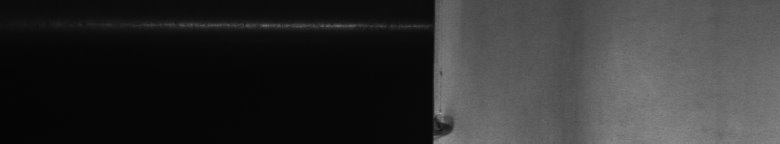hb: (444, 108, 461, 136)
